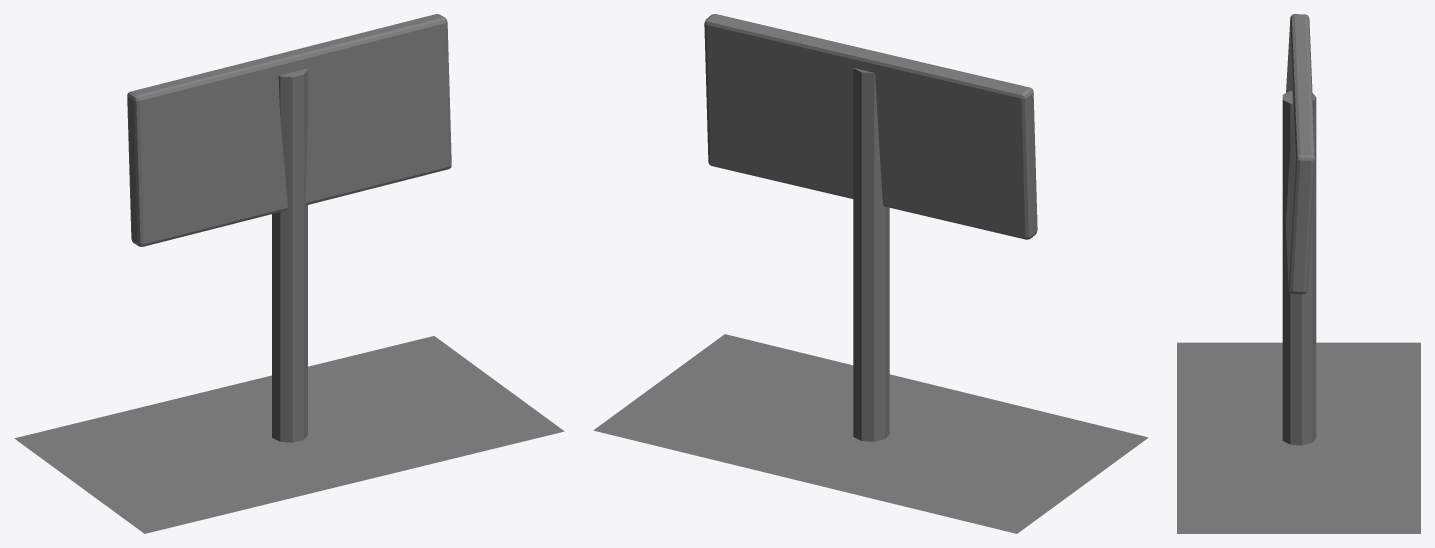
File: signboard.glb
The picture shows the model from 3 angles, left to right: view 1: azimuth 30°, elevation 25°; view 2: azimuth 150°, elevation 25°; view 3: azimuth 270°, elevation 25°; orthographic projection. The views are drawn at different scales.
Parts seen in each view (by area): view 1: ContactShadow, board, post; view 2: ContactShadow, board, post; view 3: ContactShadow, post, board.
Part boxes in pixels (<box>): ContactShadow: <box>14,336,564,533</box>; board: <box>127,14,451,246</box>; post: <box>272,68,307,442</box>; ContactShadow: <box>593,334,1148,533</box>; board: <box>704,14,1037,239</box>; post: <box>853,68,889,441</box>; ContactShadow: <box>1177,342,1420,533</box>; post: <box>1282,90,1316,445</box>; board: <box>1285,14,1315,294</box>.
Size of the model in its own units: 1.3 by 1.14 by 0.7.
3 materials, 3 textured.
